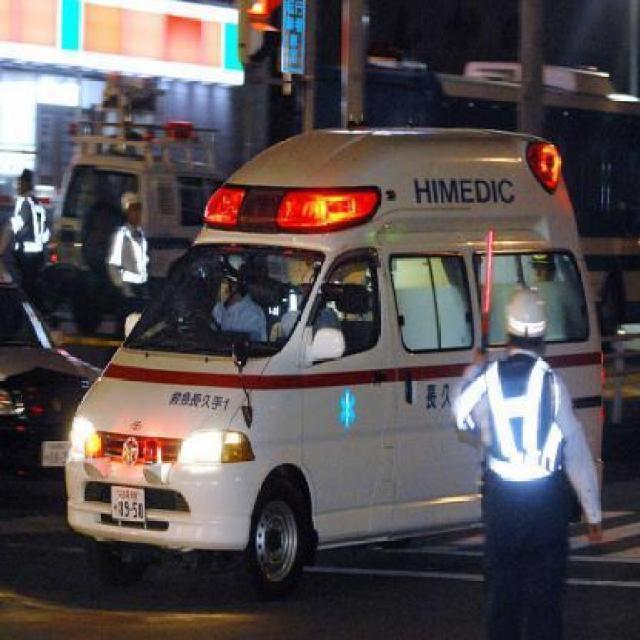emergency: (61, 119, 606, 596)
